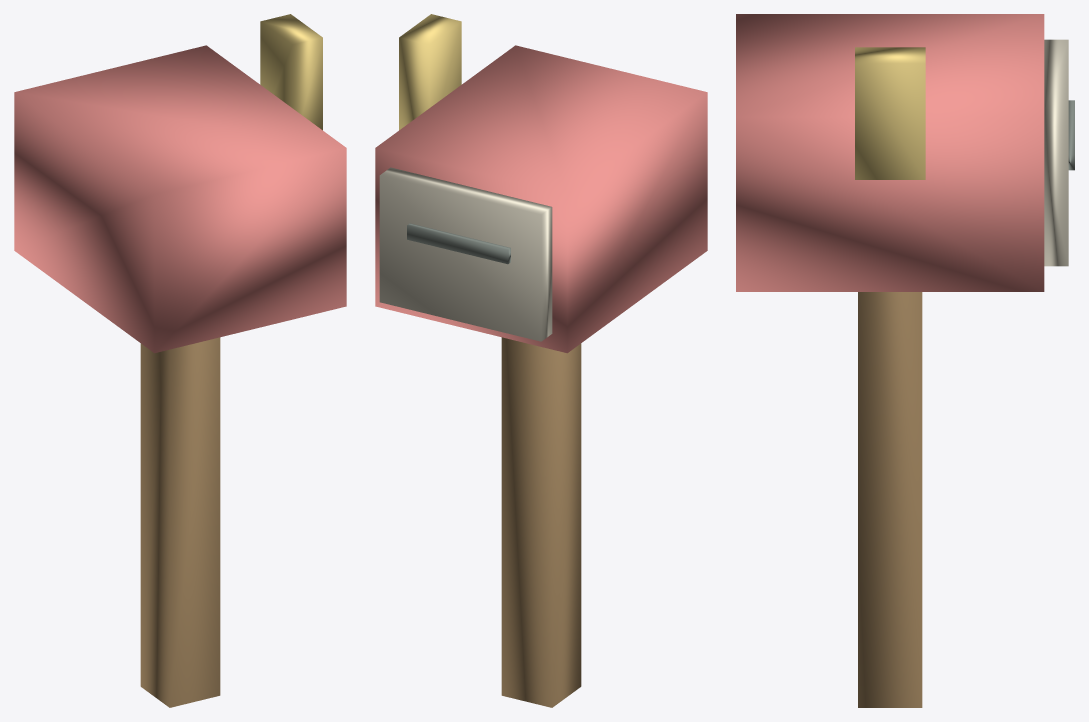
The model's file is mailbox_red_low.glb.
The picture shows the model from 3 angles, left to right: view 1: azimuth 30°, elevation 25°; view 2: azimuth 150°, elevation 25°; view 3: azimuth 270°, elevation 25°; orthographic projection. The views are drawn at different scales.
Bounding box in the file's own units: 0.44 × 1.2 × 0.5275.
